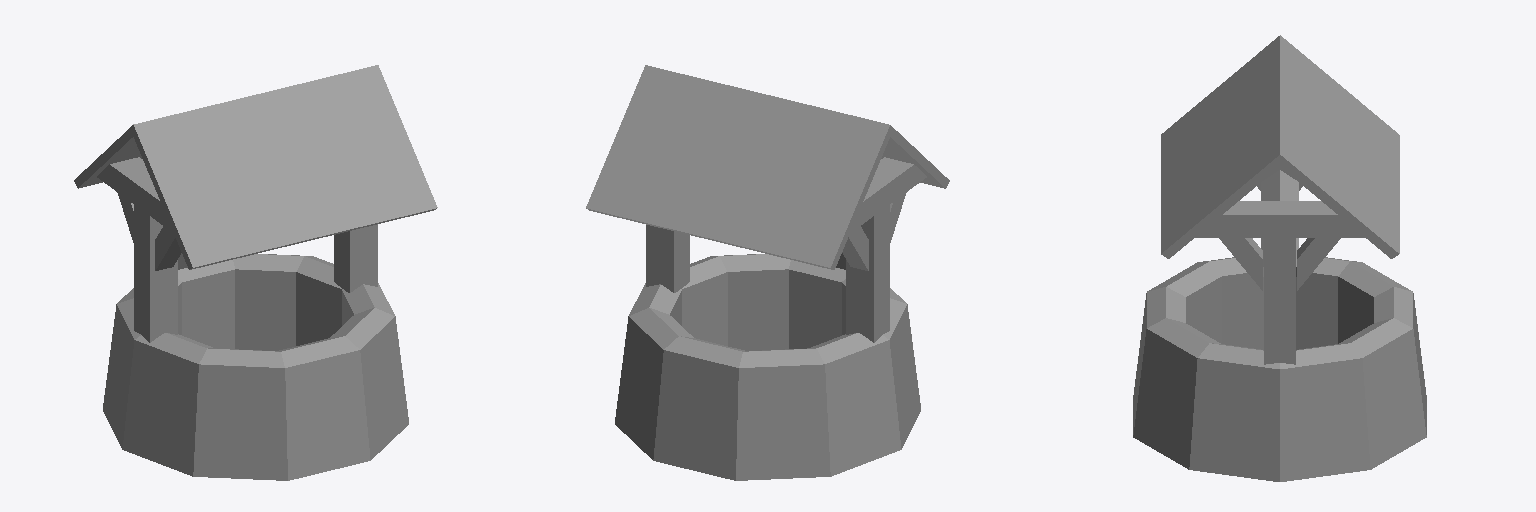
The model's file is well.obj.
The picture shows the model from 3 angles: view 1: azimuth 30°, elevation 25°; view 2: azimuth 150°, elevation 25°; view 3: azimuth 270°, elevation 25°; orthographic projection.
Parts seen in each view (by area): view 1: CoveredWell_Cube.008; view 2: CoveredWell_Cube.008; view 3: CoveredWell_Cube.008.
Part boxes in pixels (x1,y1,x2,y2): CoveredWell_Cube.008: (74, 65, 437, 480); CoveredWell_Cube.008: (586, 65, 949, 480); CoveredWell_Cube.008: (1133, 35, 1426, 481).
Bounding box in the file's own units: 3.69 × 4.25 × 3.51.